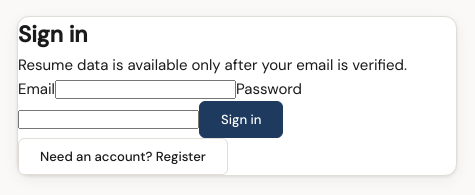
AuthGate registration availability › offers registration when the server reports it open
Click the button "Need an account? Register".
click(123, 156)  # box [18,138,228,175]
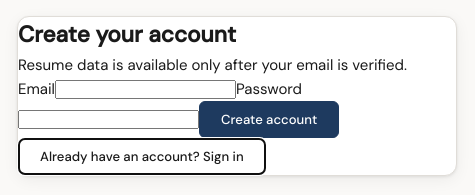
Check: the heading "Create your account" is shown, box [18,20,236,49]
